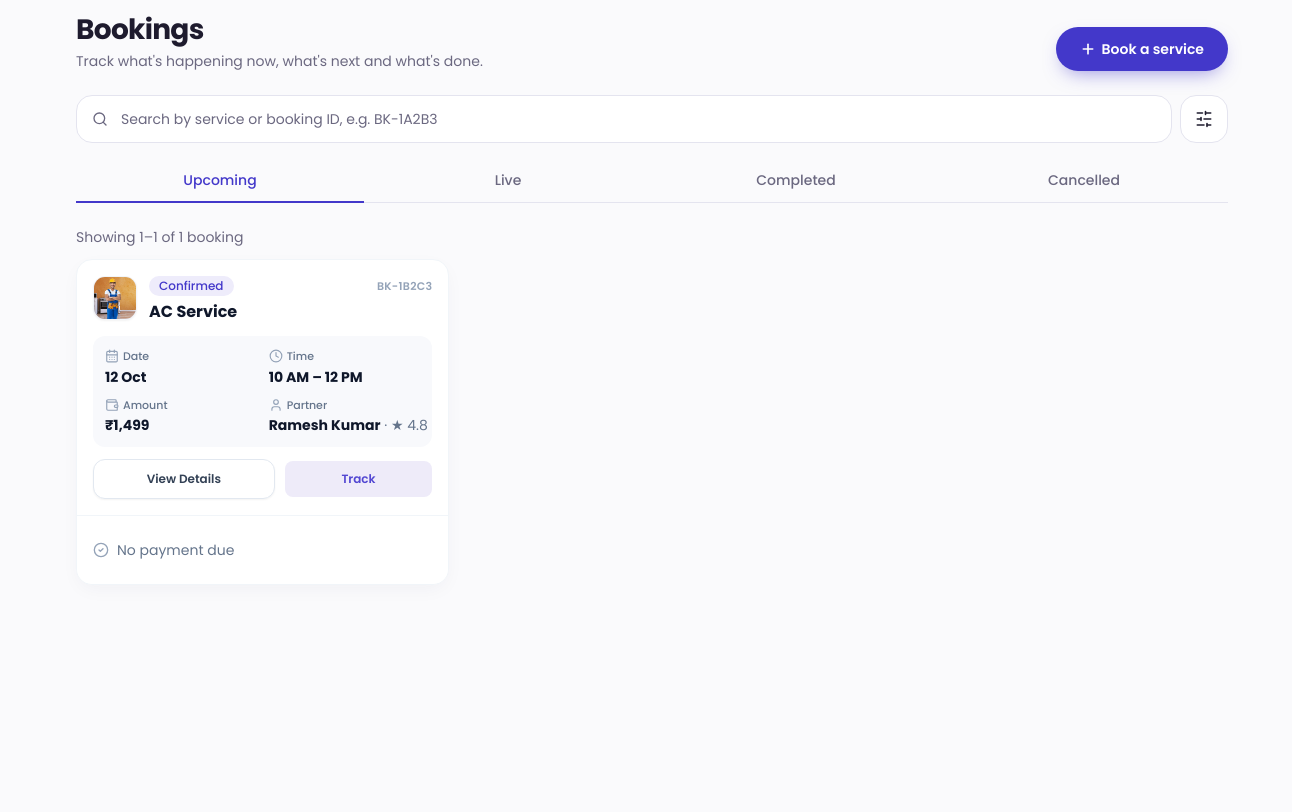
Test: My Bookings page › sends the search text and shows a no-match state with a working Clear filters
Check: the element that starts with "Confirmed" is shown, box [76,259,449,585]
Type "zzz" into the search field named "search bookings" at [624, 119], box [76,95,1172,143]
Then press Enter
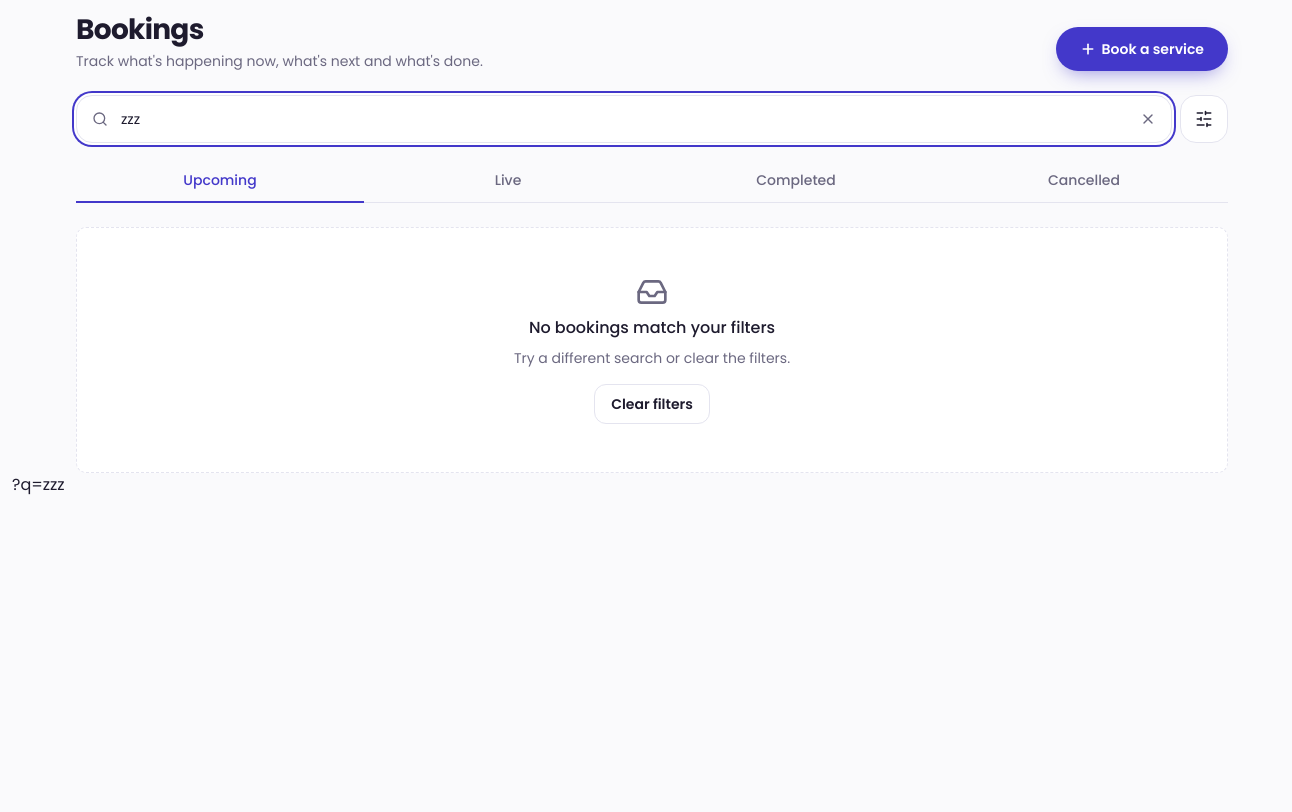
Check: the text "No bookings match your filters" is shown, box [529,316,775,340]
Click the button "Clear filters" at [652, 404], box [594,384,710,424]
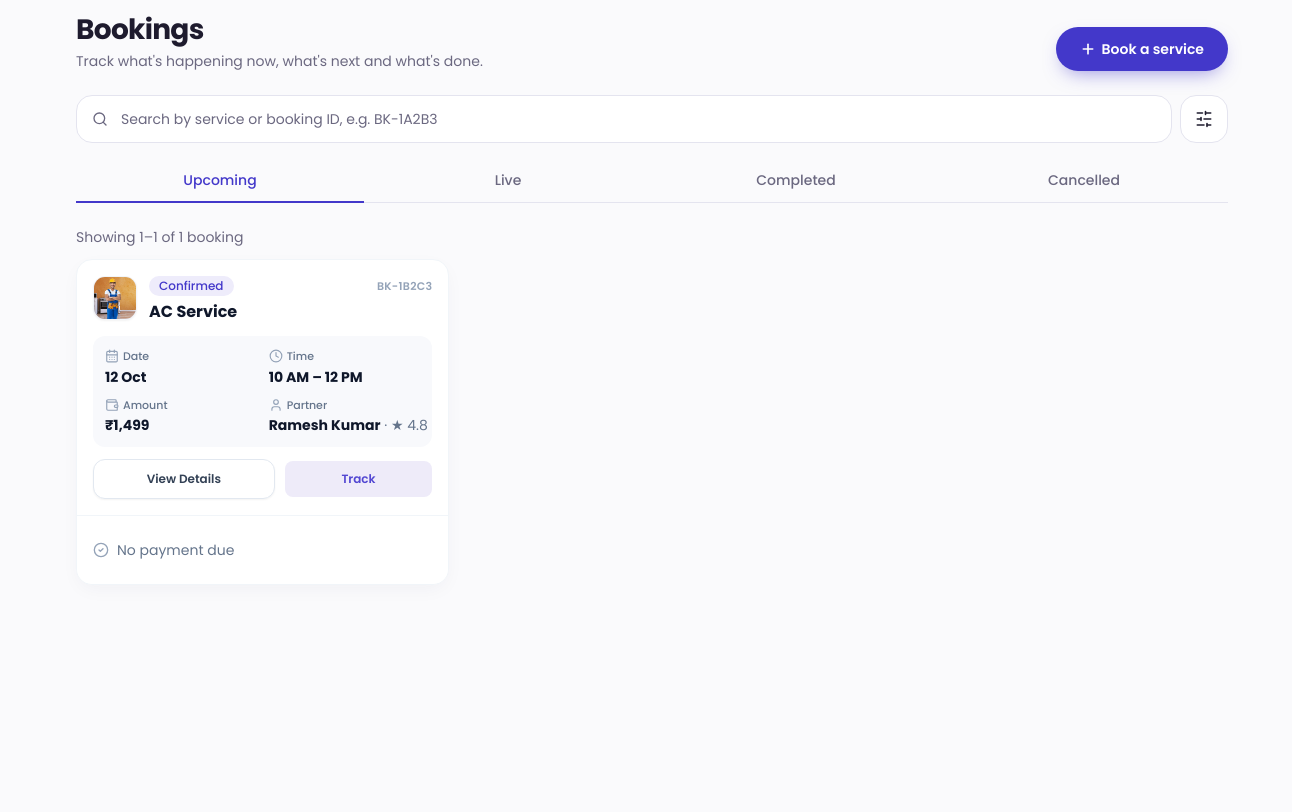
Check: the element that starts with "Confirmed" is shown, box [76,259,449,585]
Check: the search field named "search bookings" is empty, box [76,95,1172,143]
